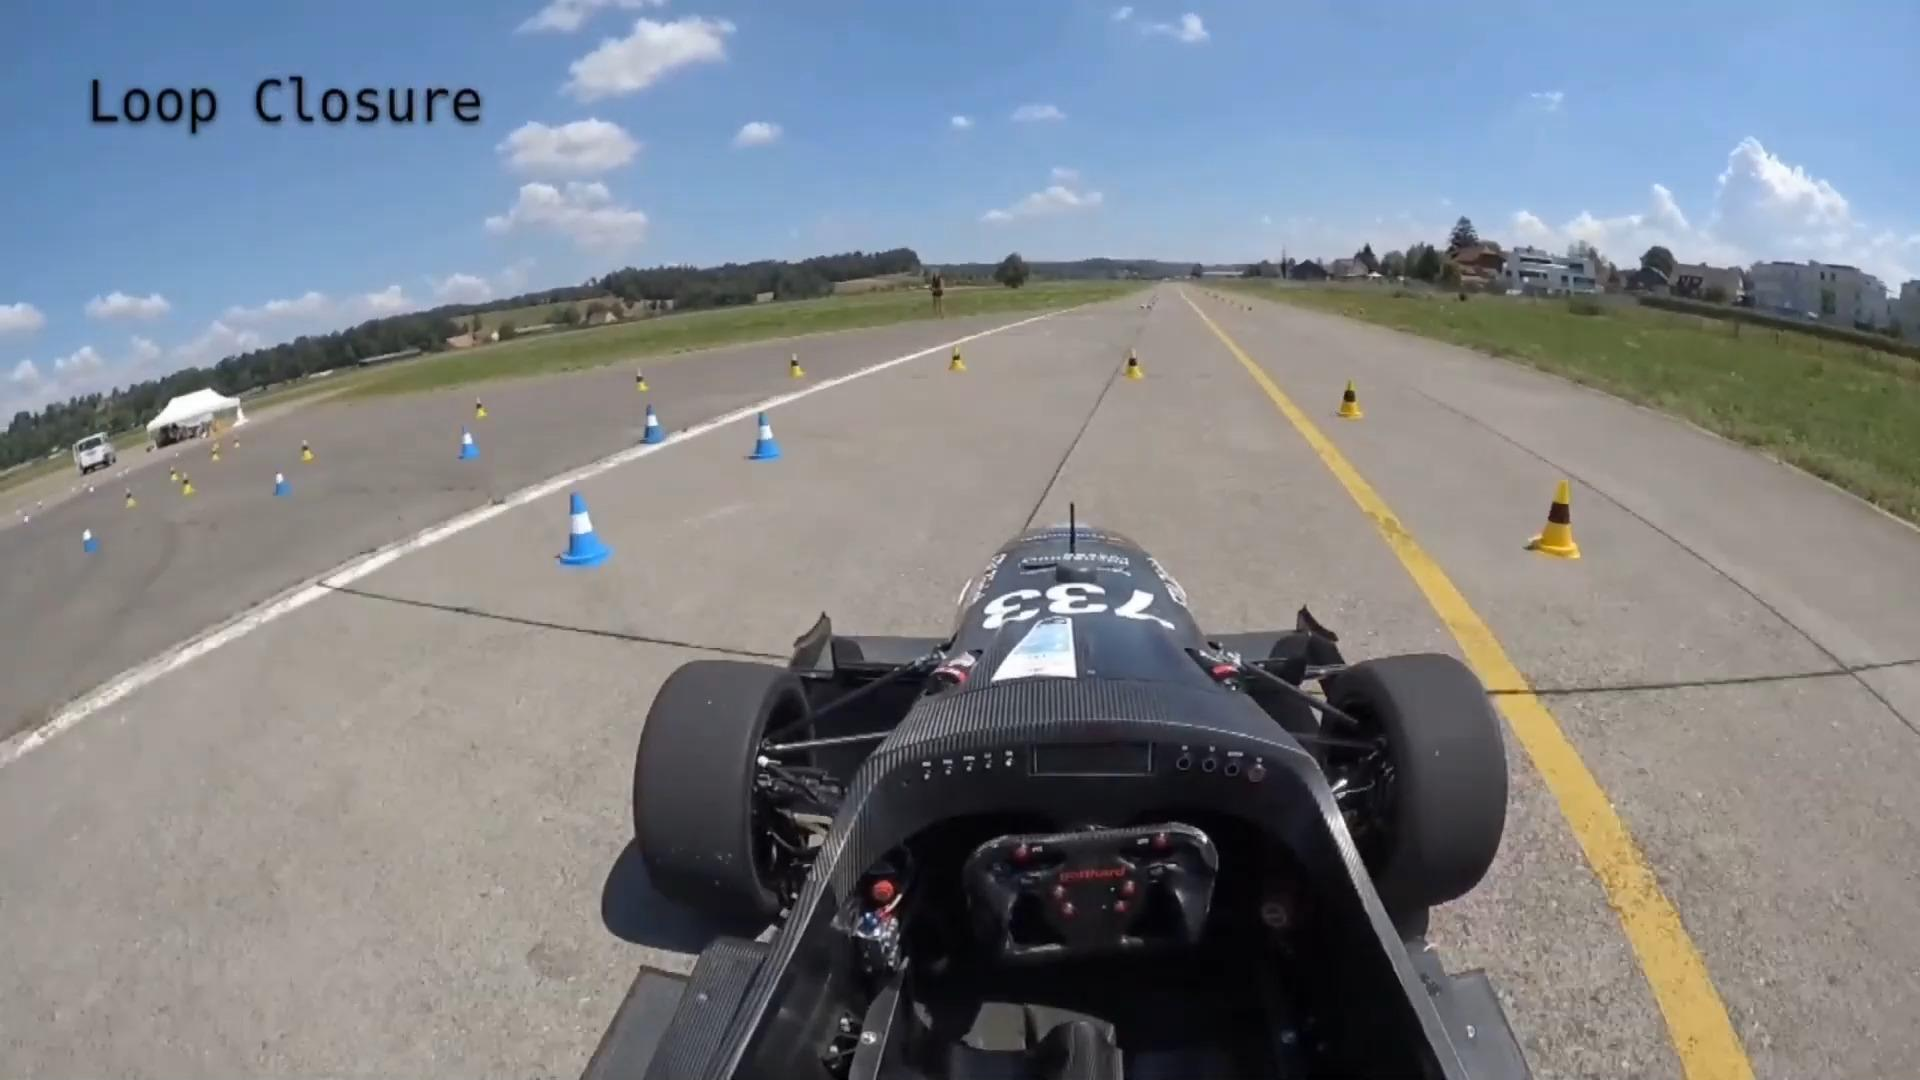blue_cone: (559, 492, 611, 572), (750, 411, 783, 460), (642, 404, 666, 443), (459, 425, 483, 460)
yellow_cone: (1531, 479, 1580, 560), (1338, 380, 1365, 419), (1122, 345, 1149, 380)
